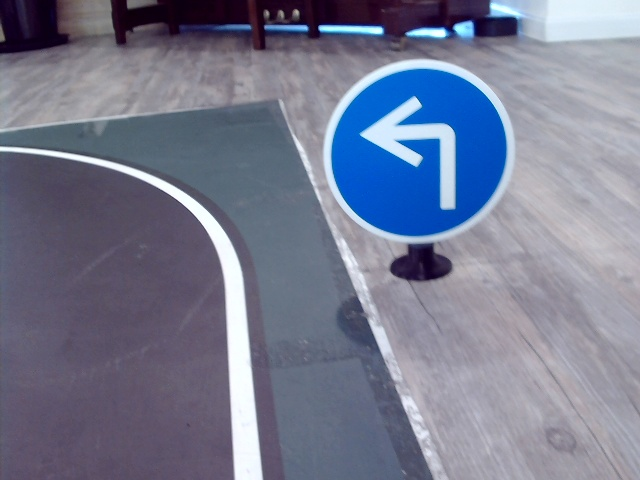turn_left: (364, 93, 467, 217)
